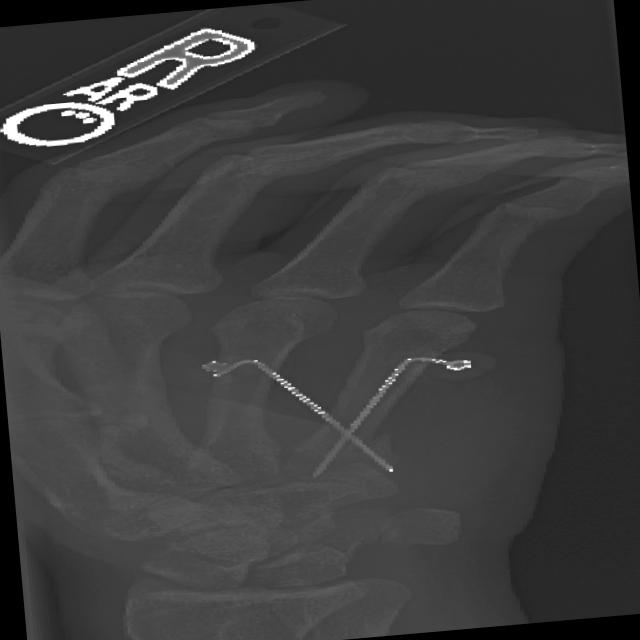fingers positive: (271, 406, 421, 473)
